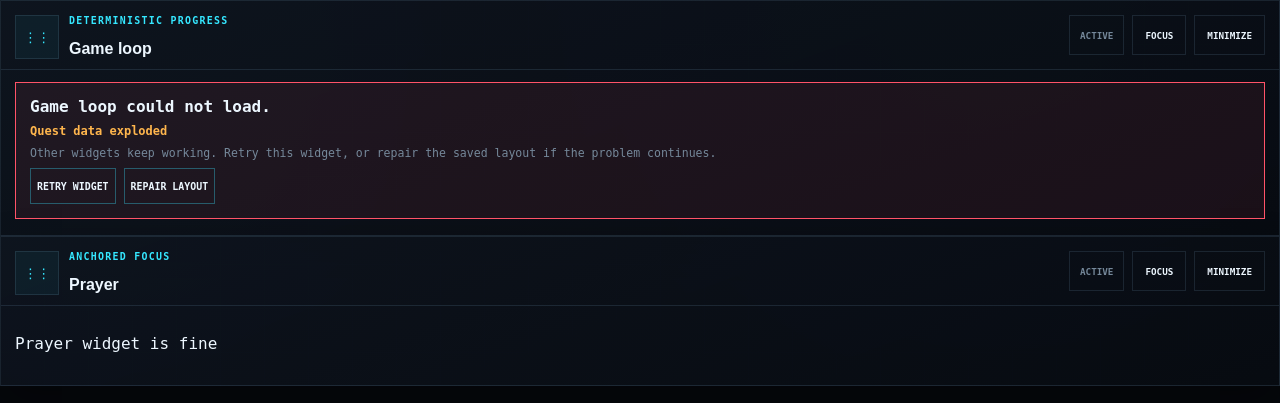
Test: widget error boundaries › offers layout repair from inside a failing workspace widget without taking down its neighbors
Expected: the message shows "Game loop could not load.", x1=15 y1=82 x2=1265 y2=219
Expected: the message shows "Quest data exploded", x1=30 y1=124 x2=167 y2=138
What coordinates should you click on to do the following:
click the button "Repair layout"
I would click on:
 (169, 186)
Its box is x1=124 y1=168 x2=215 y2=204.
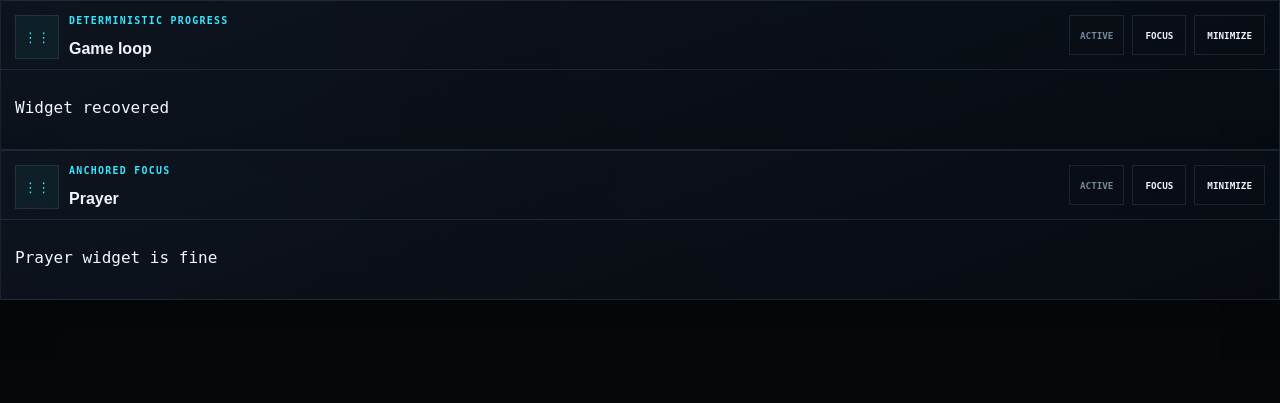
Now the text "Widget recovered" is shown, box x1=15 y1=98 x2=169 y2=117
